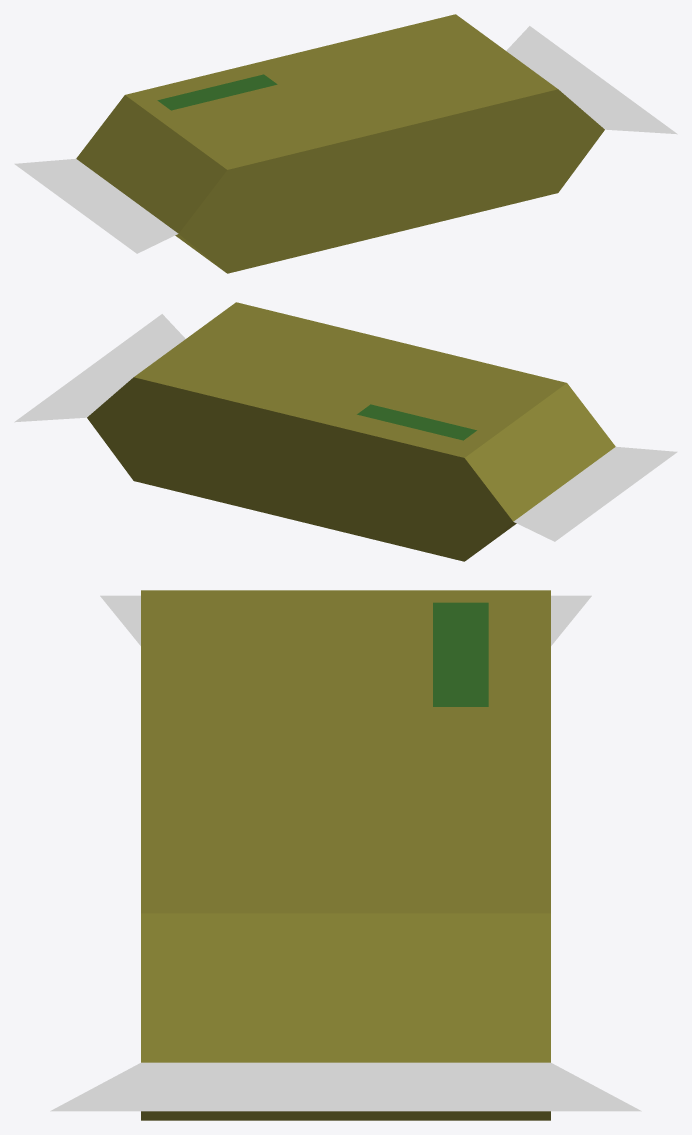
The model's file is i_bananabar_bio.glb.
3 renders of one model, top to bottom at view 1: azimuth 30°, elevation 25°; view 2: azimuth 150°, elevation 25°; view 3: azimuth 270°, elevation 25°, orthographic. The views are drawn at different scales.
Visible parts, largest first — view 1: Cube, Plane; view 2: Cube, Plane; view 3: Cube, Plane.
Boxes of the visible parts, x1,y1,x2,y2 form: Cube: (14,14,677,273); Plane: (157,74,277,110); Cube: (14,302,677,561); Plane: (357,404,476,440); Cube: (50,590,641,1120); Plane: (433,602,488,706).
Bounding box in the file's own units: 1.15 × 0.2198 × 0.5588.
